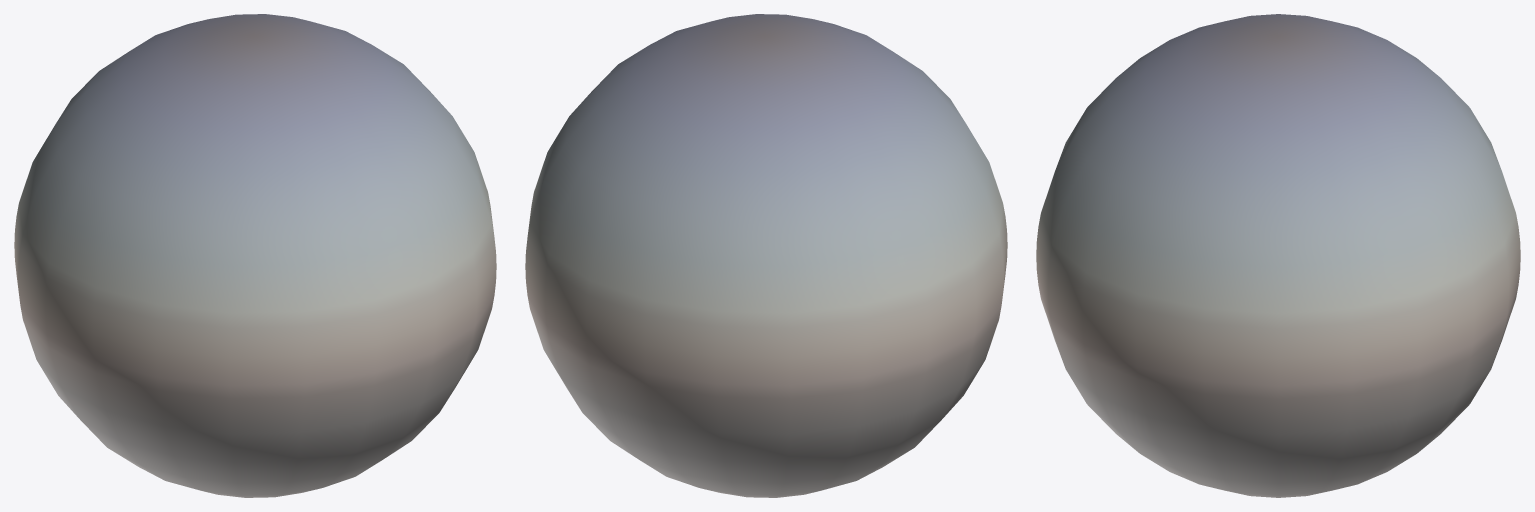
The model's file is S_Sky_Sphere_Warm.fbx.
3 renders of one model, left to right at view 1: azimuth 30°, elevation 25°; view 2: azimuth 150°, elevation 25°; view 3: azimuth 270°, elevation 25°, orthographic.
Visible parts, largest first — view 1: Sky_Sphere_Warm_GEO; view 2: Sky_Sphere_Warm_GEO; view 3: Sky_Sphere_Warm_GEO.
Boxes of the visible parts, bbox=[...] form: Sky_Sphere_Warm_GEO: bbox=[14, 14, 496, 497]; Sky_Sphere_Warm_GEO: bbox=[525, 14, 1007, 497]; Sky_Sphere_Warm_GEO: bbox=[1036, 14, 1520, 497].
Bounding box in the file's own units: 600 × 600 × 600.
